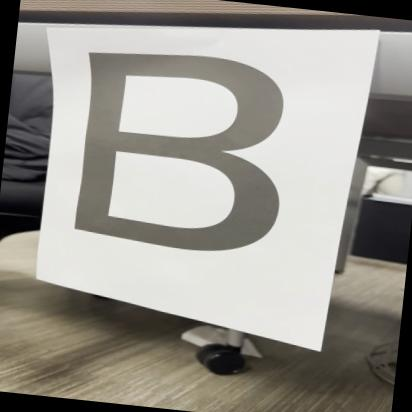seat: (47, 36, 322, 268)
